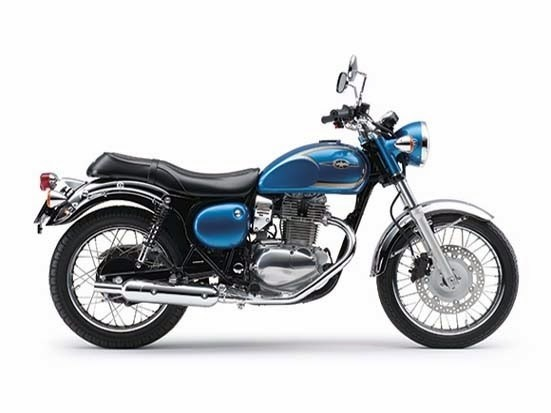motorcycle: (41, 117, 519, 355)
